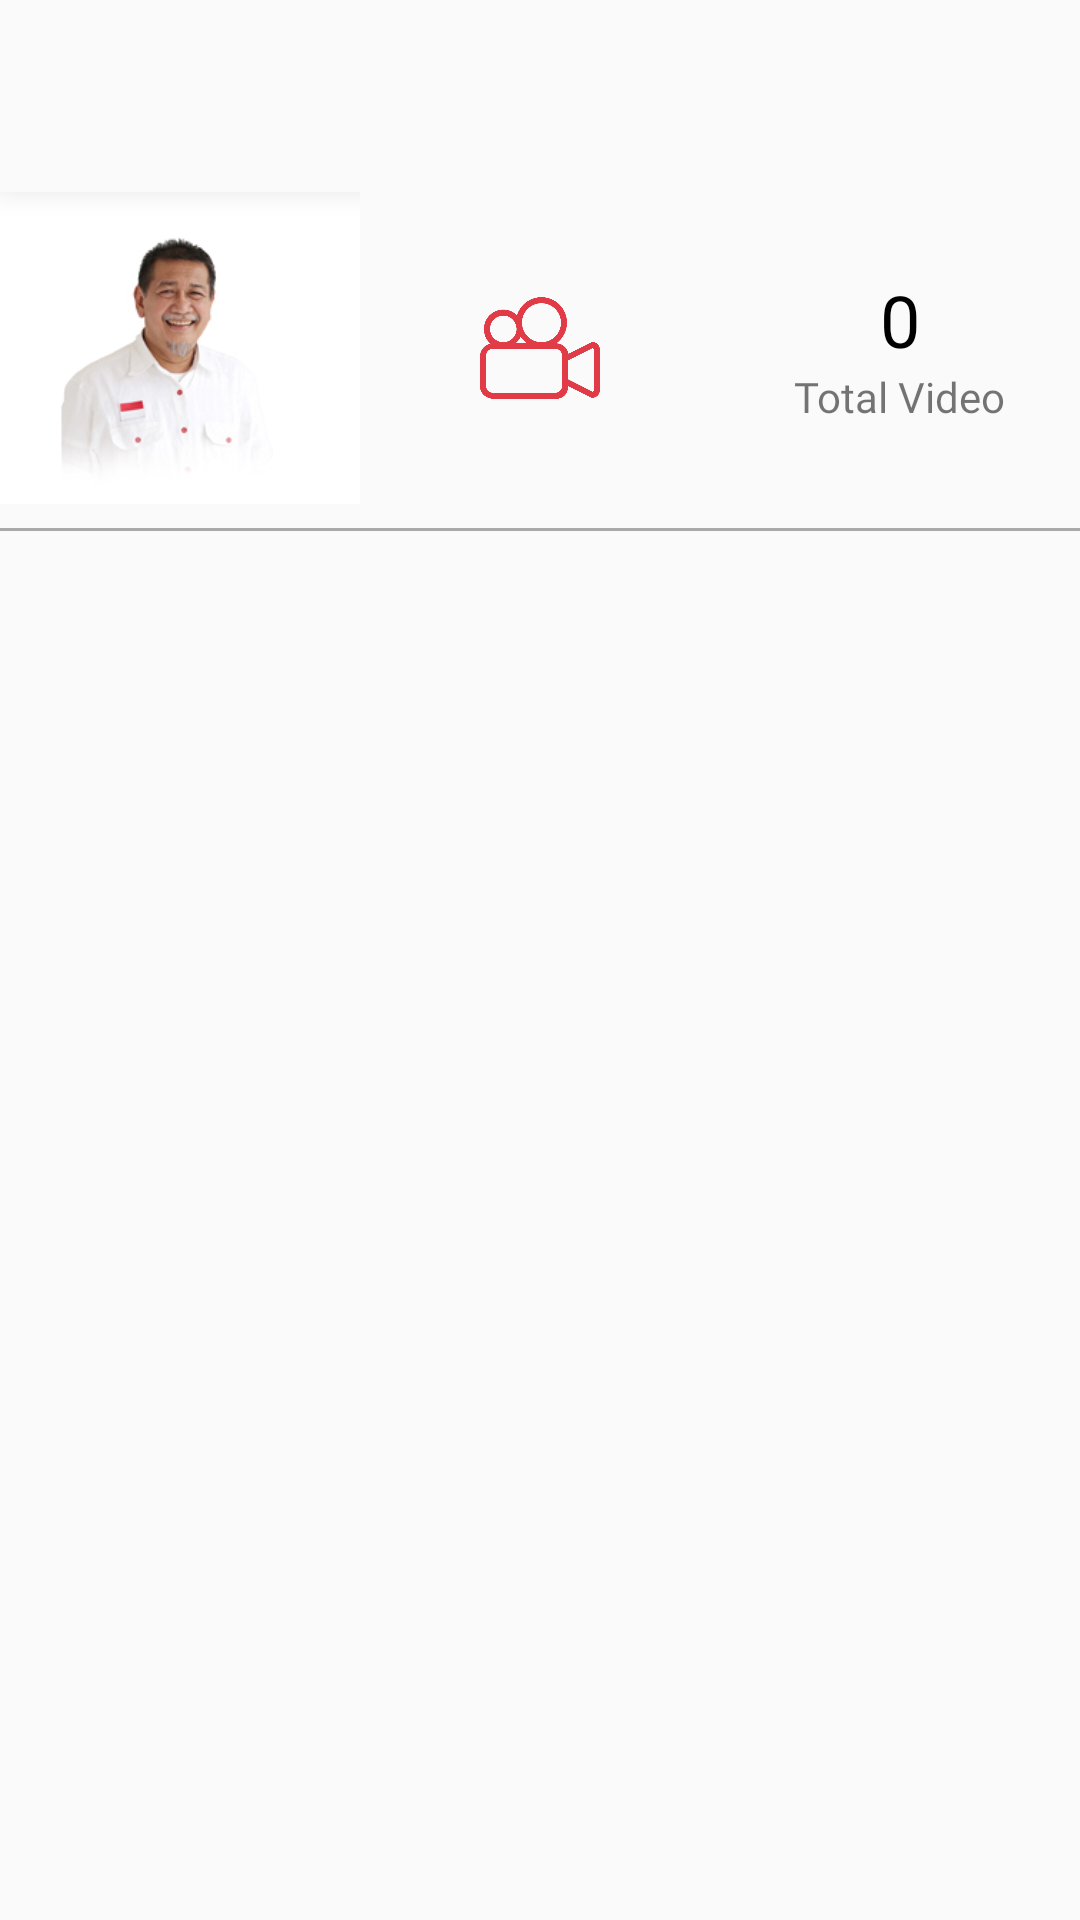

Locate icon controls on the screen. Image size 1080px×1920px, boxes as [left=x1, top=y1, right=x2, bottom=y2].
video camera: [left=480, top=297, right=600, bottom=399]
